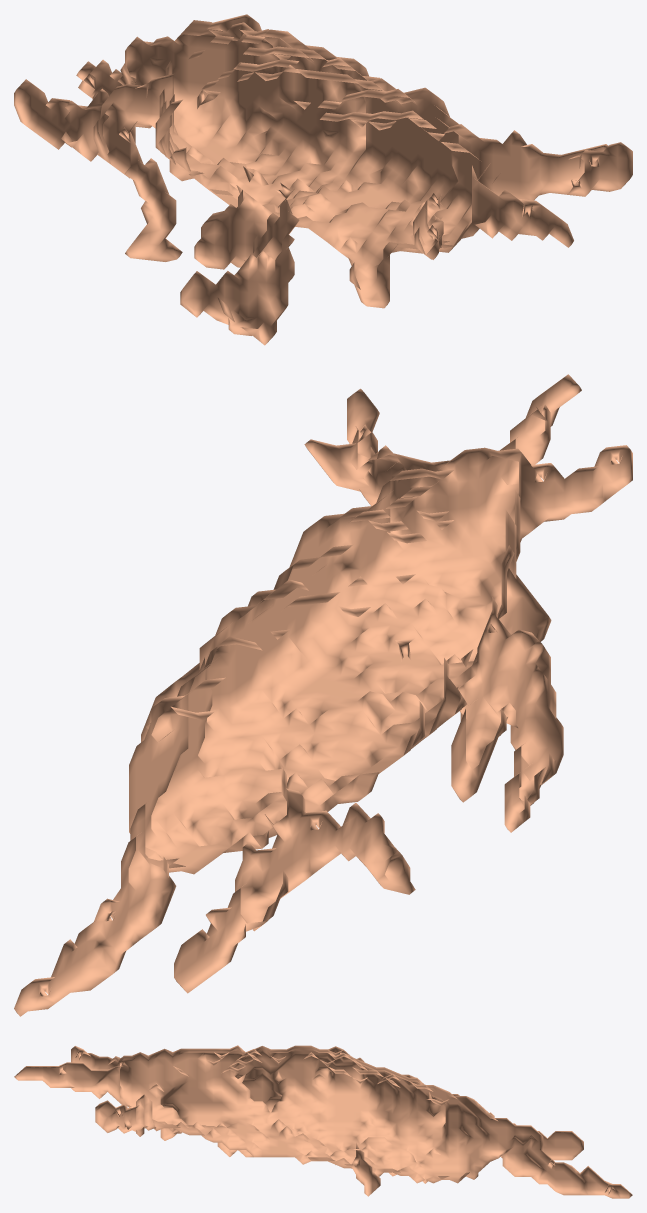
The model's file is osteocyte_36.glb.
3 renders of one model, top to bottom at view 1: azimuth 30°, elevation 25°; view 2: azimuth 150°, elevation 25°; view 3: azimuth 270°, elevation 25°, orthographic. The views are drawn at different scales.
Parts seen in each view (by area): view 1: osteocyte_36; view 2: osteocyte_36; view 3: osteocyte_36.
Boxes of the visible parts, x1,y1,x2,y2 form: osteocyte_36: [14, 14, 632, 345]; osteocyte_36: [14, 374, 632, 1016]; osteocyte_36: [14, 1045, 632, 1198].
Size of the model in its own units: 12.52 by 8.05 by 33.98.
